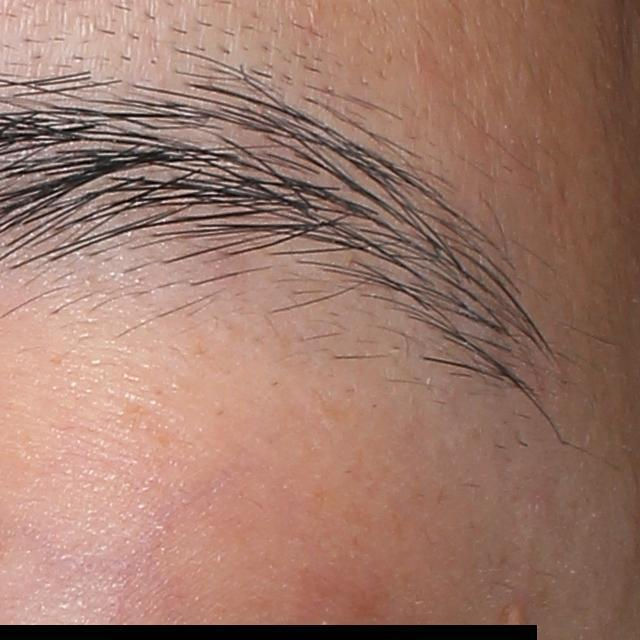pustule: (505, 601, 529, 640)
